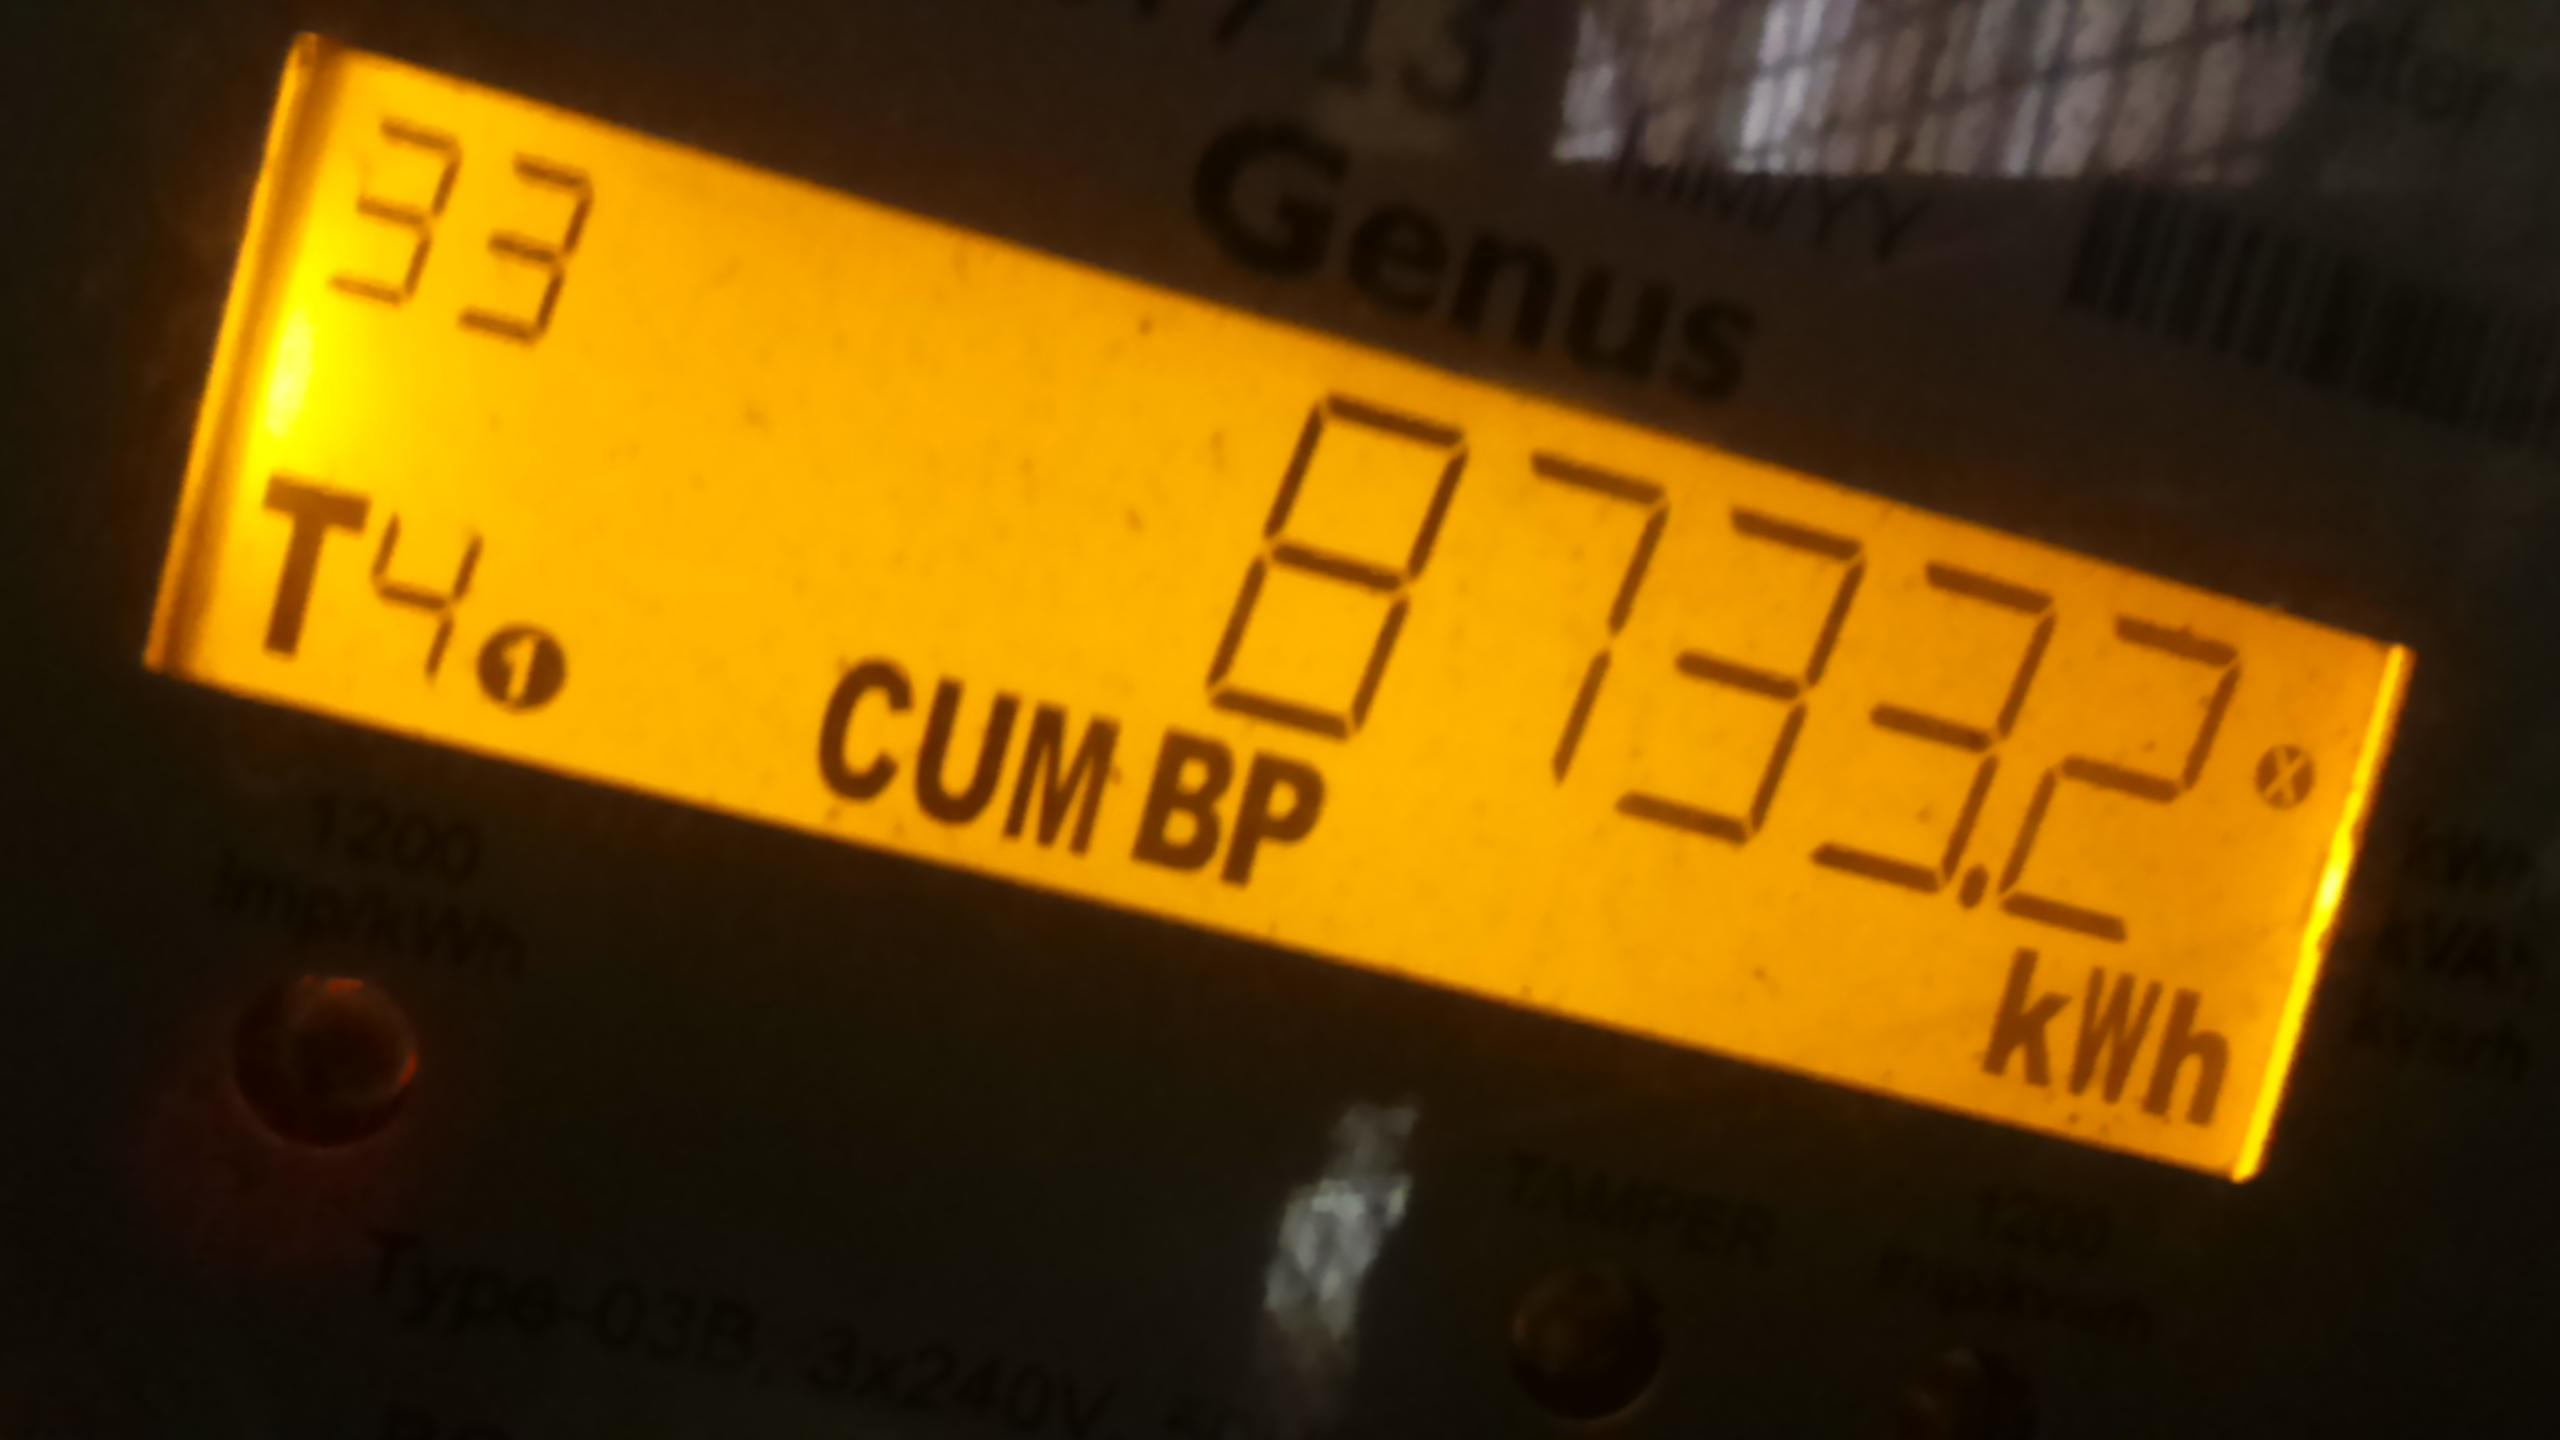.: (1969, 930, 2258, 1167)
0: (1915, 847, 2003, 969)
3: (2013, 603, 2291, 953)
4: (1595, 484, 1873, 862), (1823, 563, 2071, 905)
8: (1523, 413, 1677, 872)
9: (1127, 353, 1487, 756)
